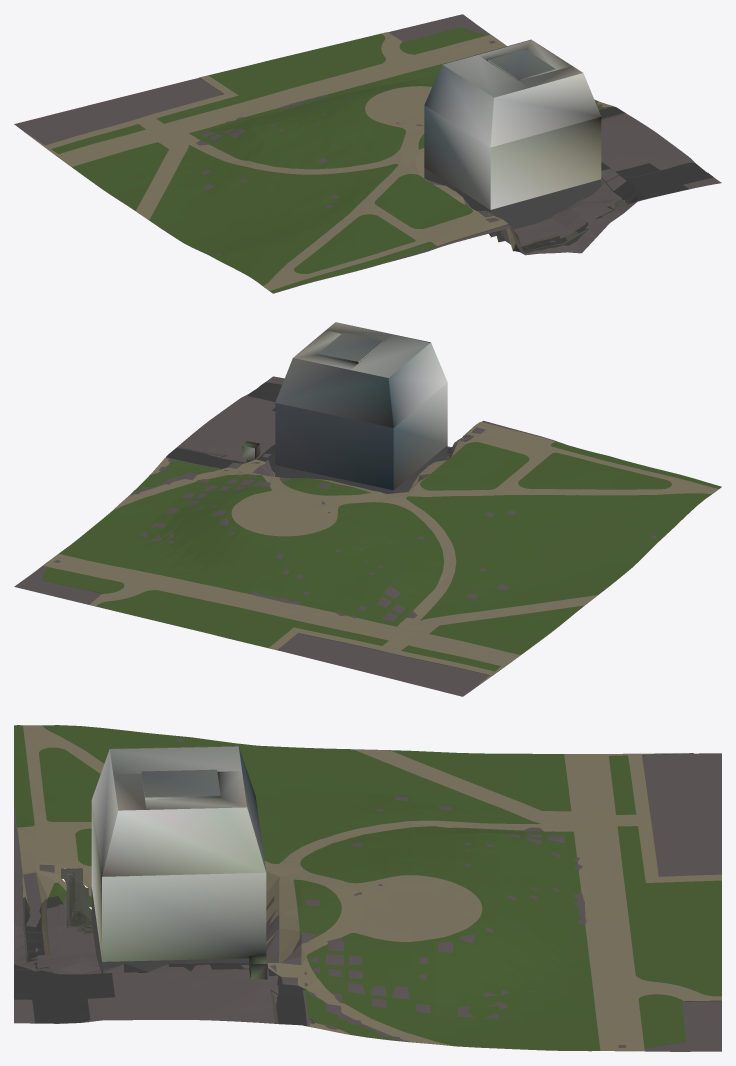
3 views of the same model, one above another, from view 1: azimuth 30°, elevation 25°; view 2: azimuth 150°, elevation 25°; view 3: azimuth 270°, elevation 25° (orthographic). The views are drawn at different scales.
Parts seen in each view (by area): view 1: c_m03_m04; view 2: c_m03_m04; view 3: c_m03_m04.
Part boxes in pixels (x1,y1,x2,y2): c_m03_m04: (14,14,721,293); c_m03_m04: (14,322,721,696); c_m03_m04: (14,725,721,1051).
Size of the model in its own units: 128 by 39.22 by 128.
